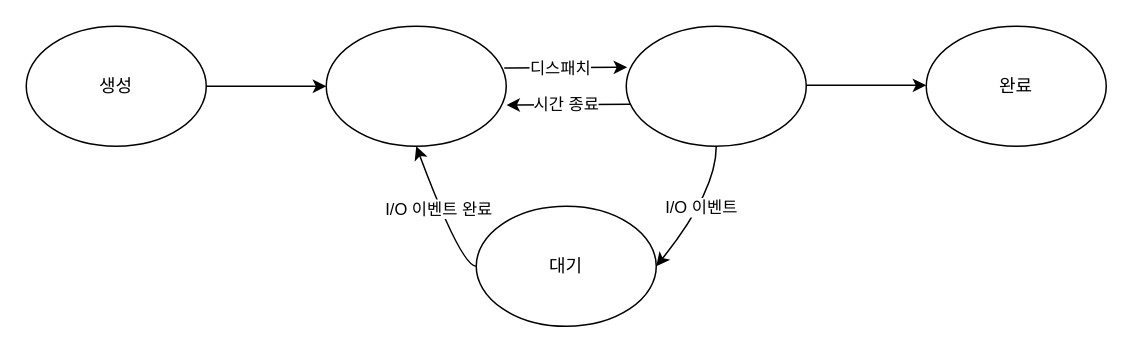
Image size: 1133x353. Some labels were removed from this diagram. The shapes that lost their labels are listed below. From the top down, each one's centre as x and y in pixels, then its label:
the point at 415,85: 준비
the point at 715,85: 실행
